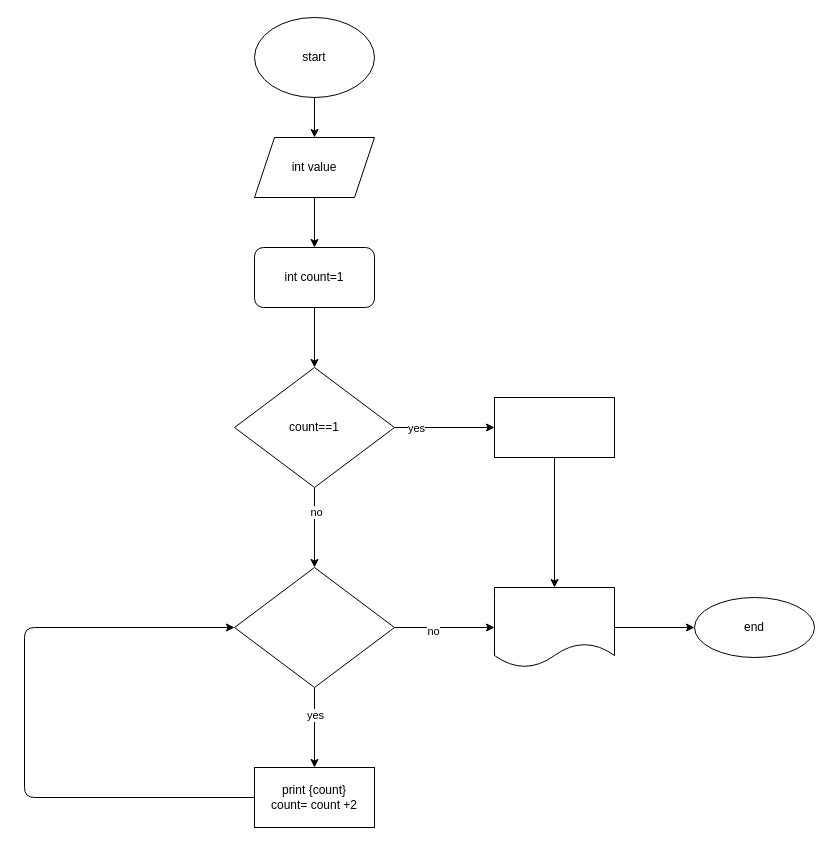
This 832x845 diagram has some shape labels left out. The shapes that lost their labels are listed below. From the top down, each one's box as (x1, y1, x2, y2) in pixels, then its label:
(494, 396, 614, 458): count=count+1
(234, 566, 394, 688): count<=value
(494, 586, 614, 668): Print count
